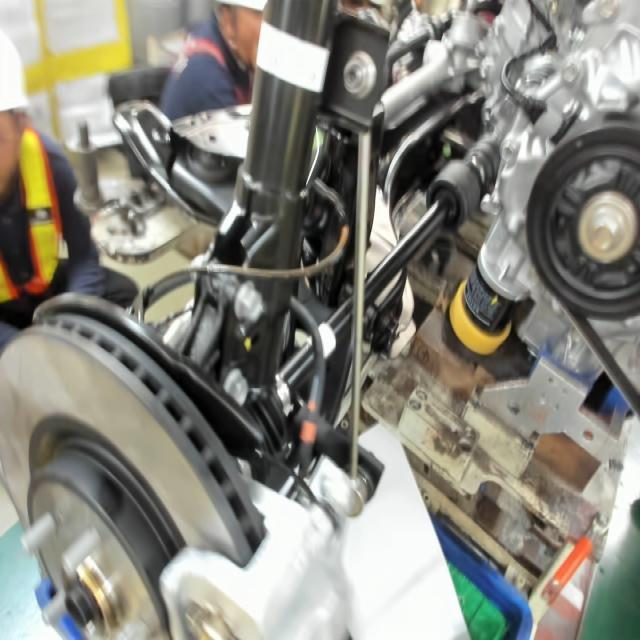Disc-HT: (20, 409, 184, 635)
Drive Shaft-PT: (312, 320, 340, 364)
